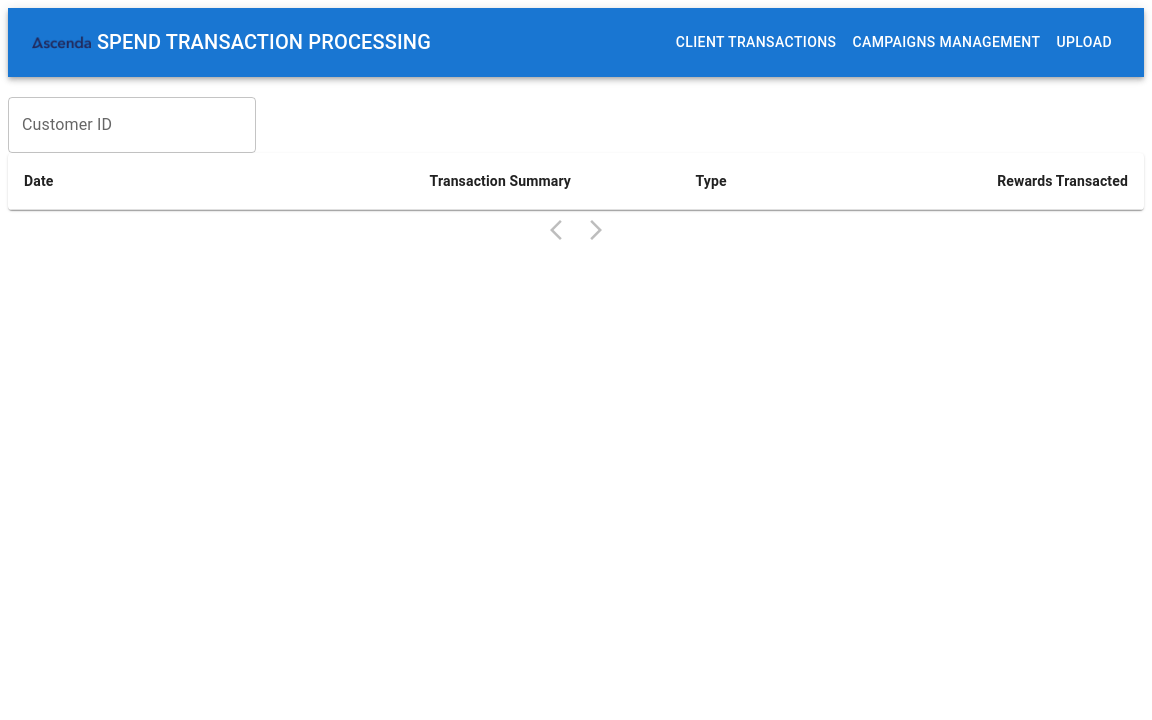
Test: Test Upload page › Test Upload Spend File
The image size is (1152, 720).
Expected: the text "SPEND TRANSACTION PROCESSING" is shown, [32,13,431,72]
Step 1. Click the button "Upload" → (1084,43), box [1048,24,1120,61]
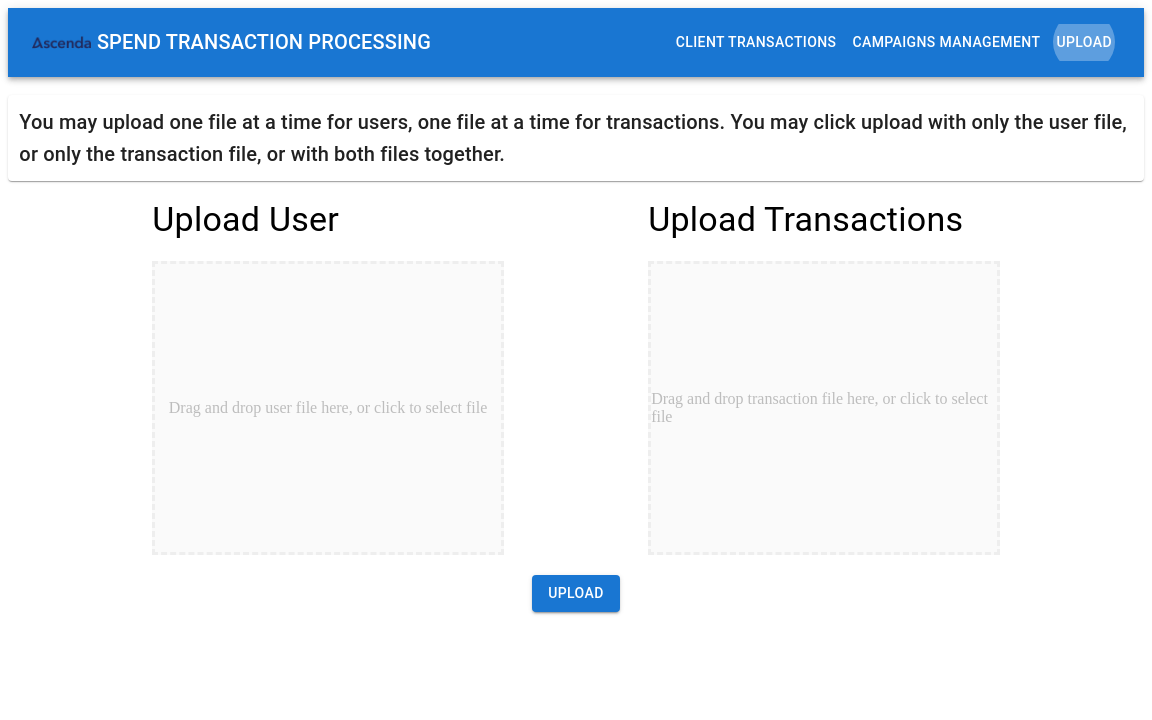
Expected: the heading "Upload Transactions" is shown, [648,199,1000,241]
Expected: the text "Drag and drop user file here, or click to select file" is shown, [169,399,487,416]
